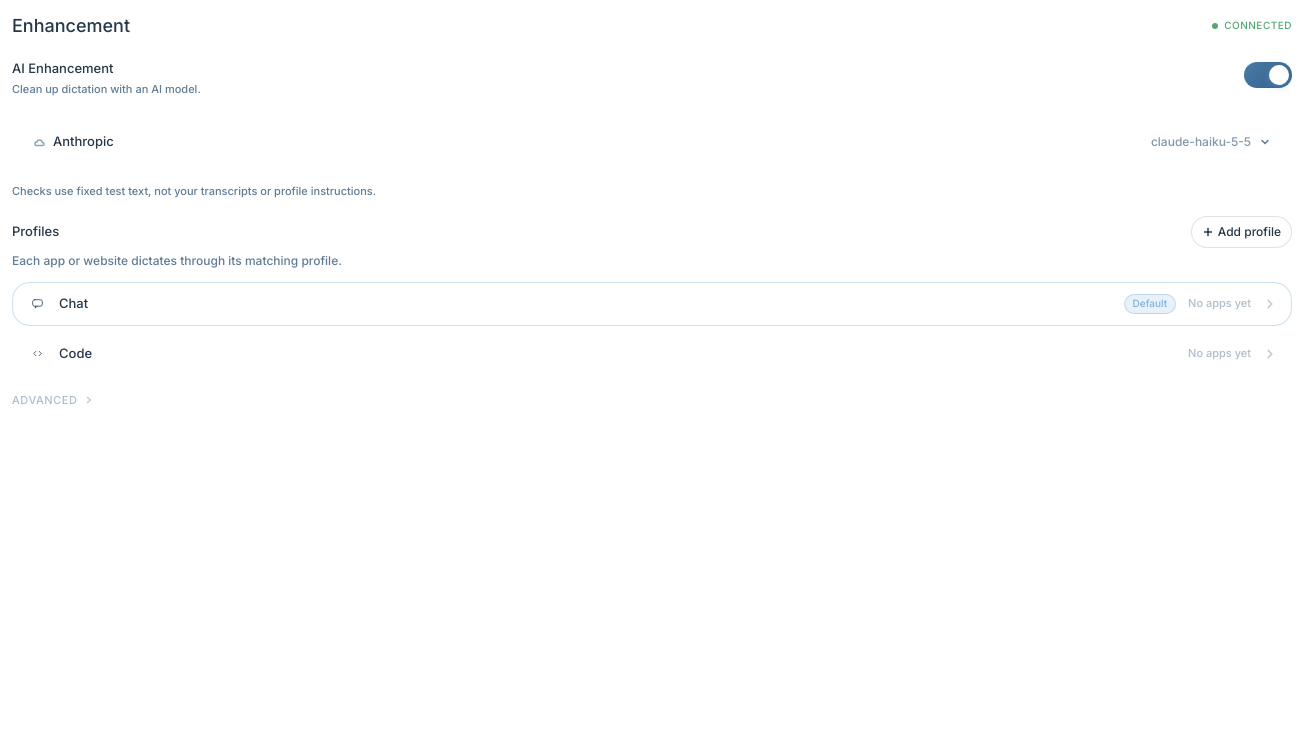
Test: Enhancement thinking and workspace recovery › renders truthful fixed status without an interactive control
Click the button "Advanced" at (53, 400), box [12,392,94,408]
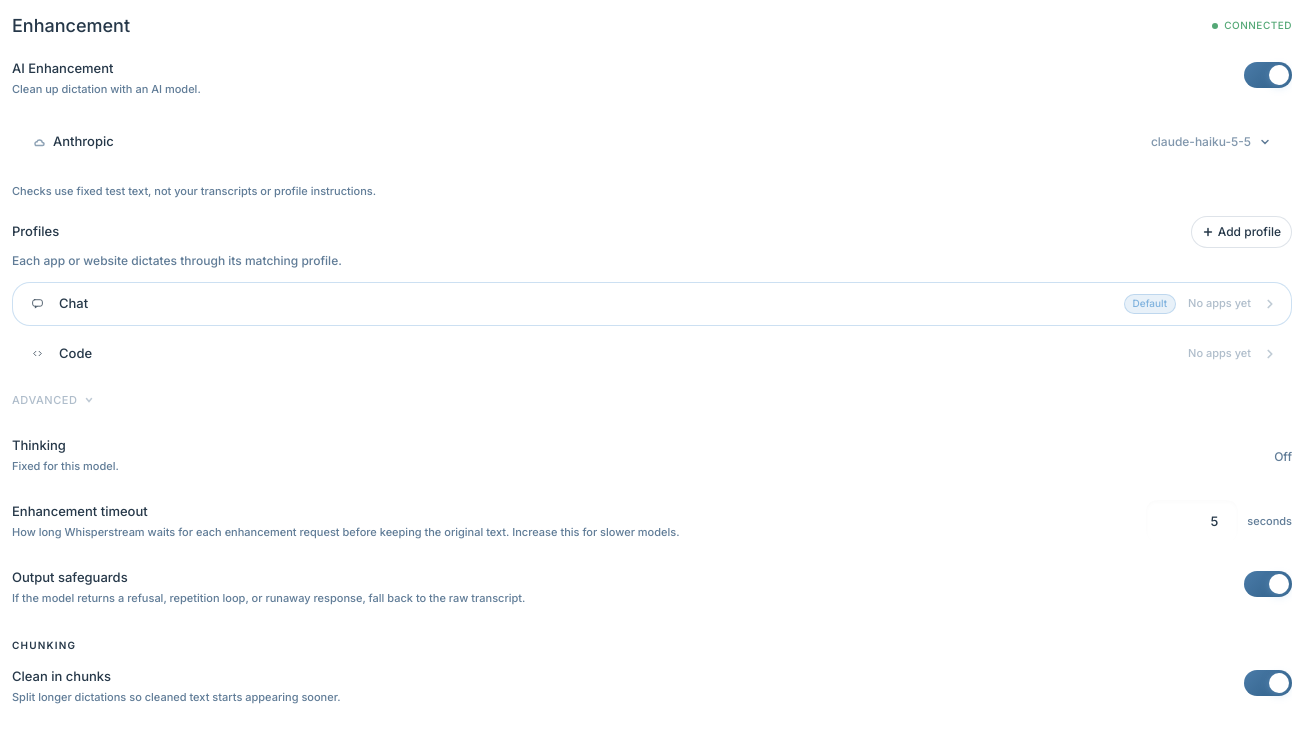
Expected: the text "Fixed for this model." is shown, [12,458,119,474]
Expected: the text "Off" is shown, [1274,449,1292,464]
